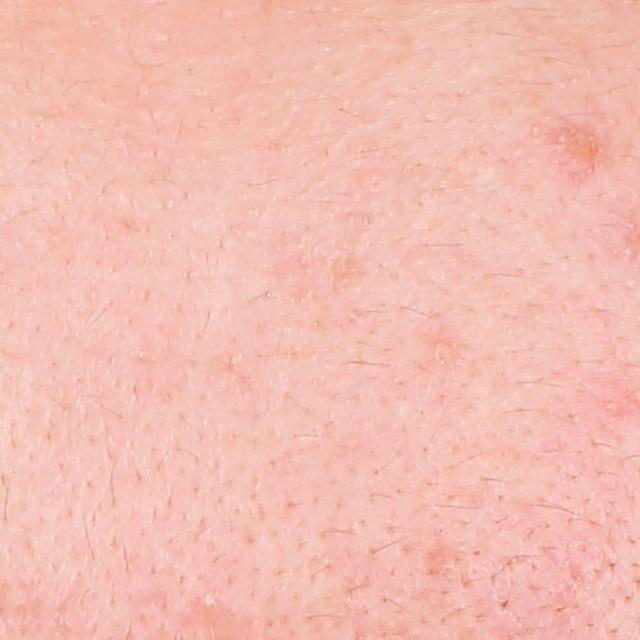comedo: (186, 581, 232, 629)
papule: (546, 116, 603, 188)
